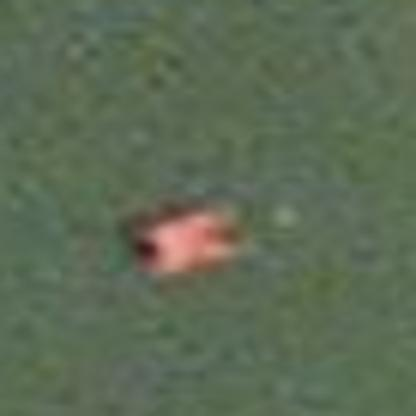ship: (104, 176, 266, 296)
